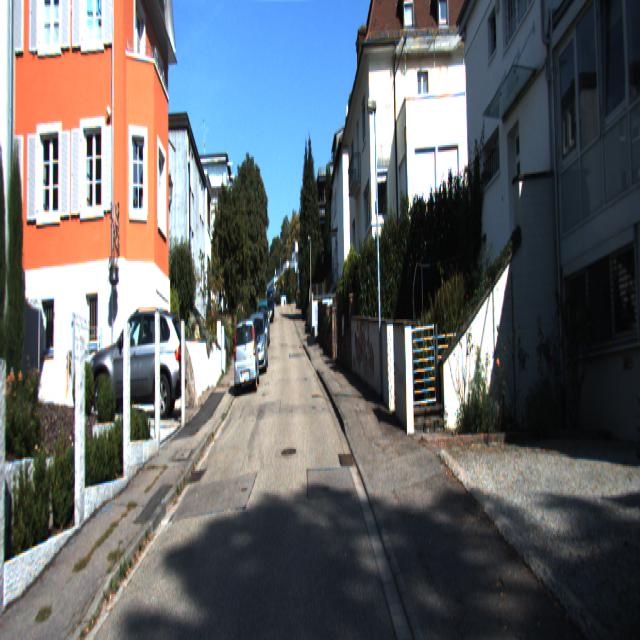Car: (87, 304, 187, 426), (234, 316, 262, 396), (244, 313, 269, 376)
